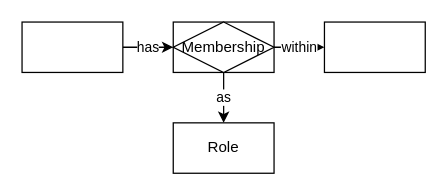
This 447x195 diagram has some shape labels left out. The shapes that lost their labels are listed below. From the top down, each one's box as (x1, y1, x2, y2) in pixels, then its label:
(21, 21, 123, 72): User
(323, 21, 425, 72): Account
